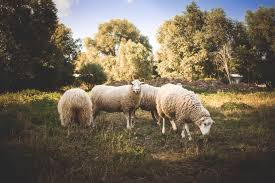sheep: (160, 84, 210, 142), (94, 76, 143, 127), (66, 82, 91, 134)
